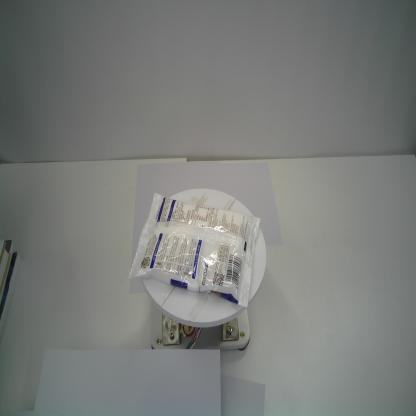Seasoner: (127, 190, 261, 310)
